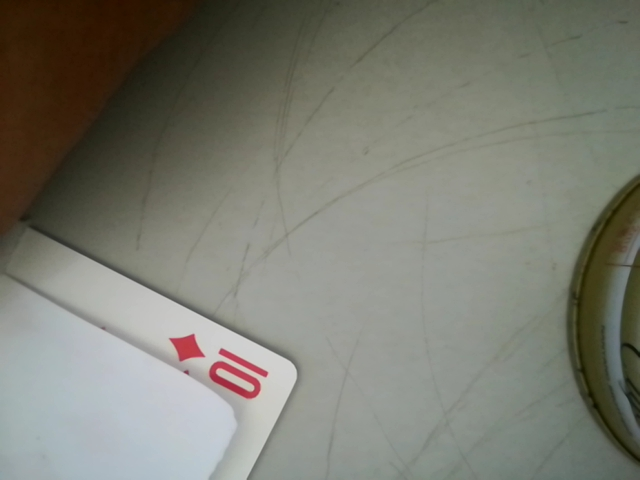fk 10: (153, 330, 281, 409)
